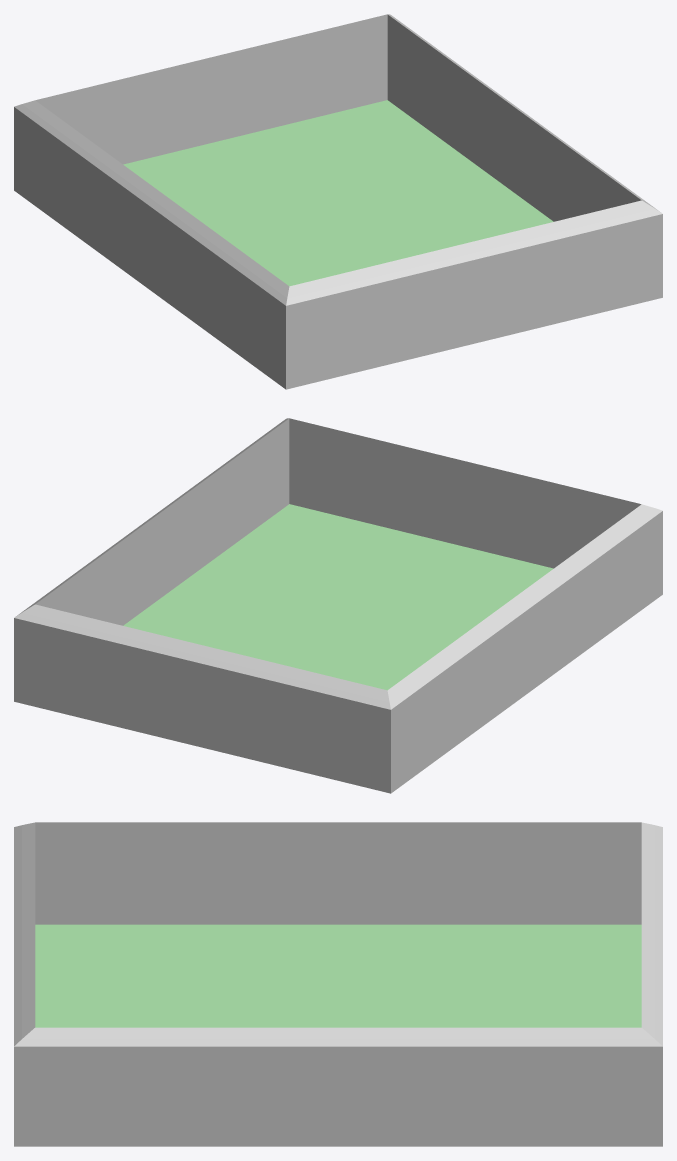
Rendered from dice_tray_basic_rectangle_updated.glb.
The picture shows the model from 3 angles, top to bottom: view 1: azimuth 30°, elevation 25°; view 2: azimuth 150°, elevation 25°; view 3: azimuth 270°, elevation 25°; orthographic projection. The views are drawn at different scales.
Parts seen in each view (by area): view 1: DiceTrayRectangle; view 2: DiceTrayRectangle; view 3: DiceTrayRectangle.
Boxes of the visible parts, bbox=[...] form: DiceTrayRectangle: bbox=[14, 14, 662, 389]; DiceTrayRectangle: bbox=[14, 418, 662, 793]; DiceTrayRectangle: bbox=[14, 822, 662, 1146].
Bounding box in the file's own units: 1.6 × 0.3804 × 2.
